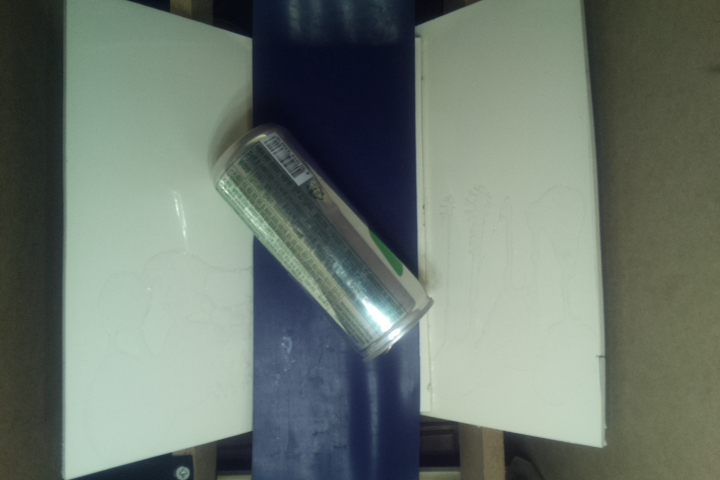can: (208, 125, 432, 360)
